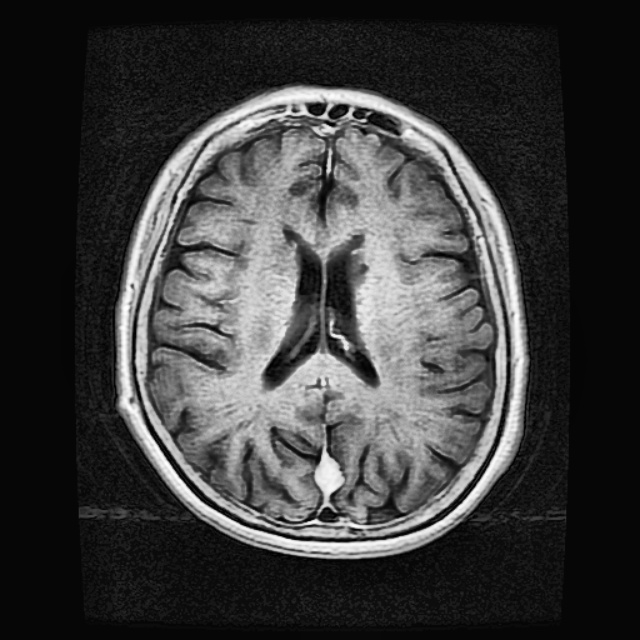Glioma: (317, 450, 342, 492)
